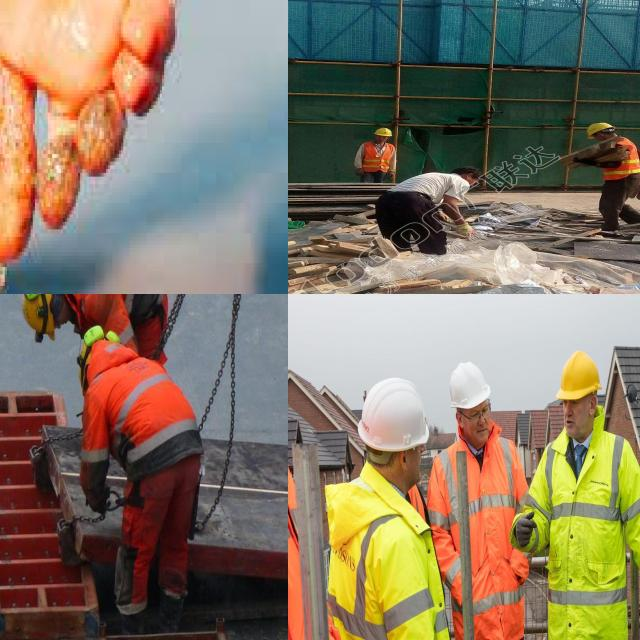Sandals: (0, 0, 183, 267)
face_nomask: (402, 442, 436, 491), (466, 394, 493, 453), (560, 401, 594, 442)
glasses: (466, 404, 494, 426)
hand_glove: (516, 514, 542, 562), (448, 220, 478, 240)
head_helmet: (356, 376, 429, 453), (558, 350, 606, 402), (448, 360, 491, 411), (20, 294, 56, 341), (586, 121, 616, 139), (373, 128, 393, 136)
person: (80, 331, 204, 633), (320, 374, 457, 640), (431, 358, 560, 640), (529, 348, 640, 640), (19, 294, 165, 365), (374, 164, 484, 254), (577, 118, 640, 230), (358, 128, 400, 182)
vest: (325, 474, 462, 640), (430, 437, 529, 640), (541, 426, 631, 640), (87, 356, 197, 492), (48, 294, 169, 341), (288, 367, 308, 640), (599, 138, 640, 181), (365, 142, 392, 173)
